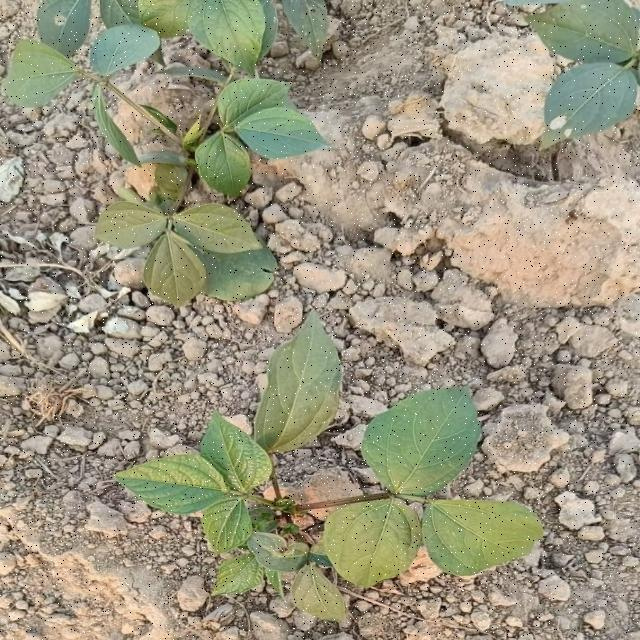plant: (116, 312, 542, 620), (4, 0, 326, 305)
